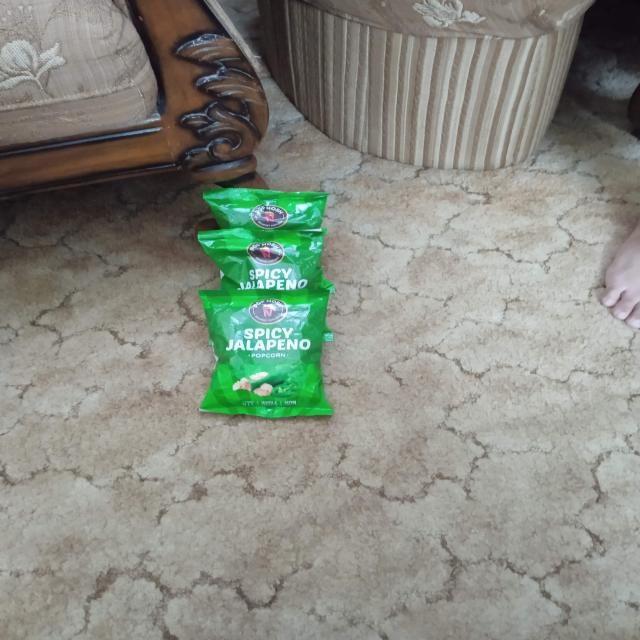Plastic: (214, 291, 330, 417), (209, 232, 326, 290), (213, 188, 324, 229)
